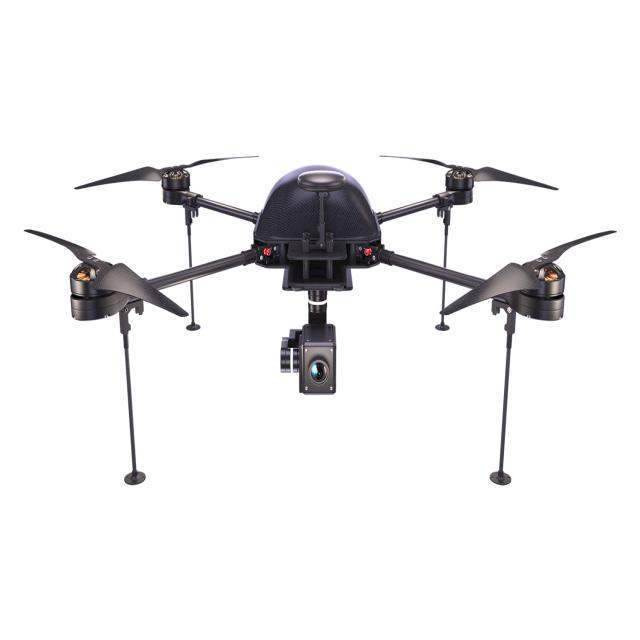drone: (30, 136, 625, 431)
